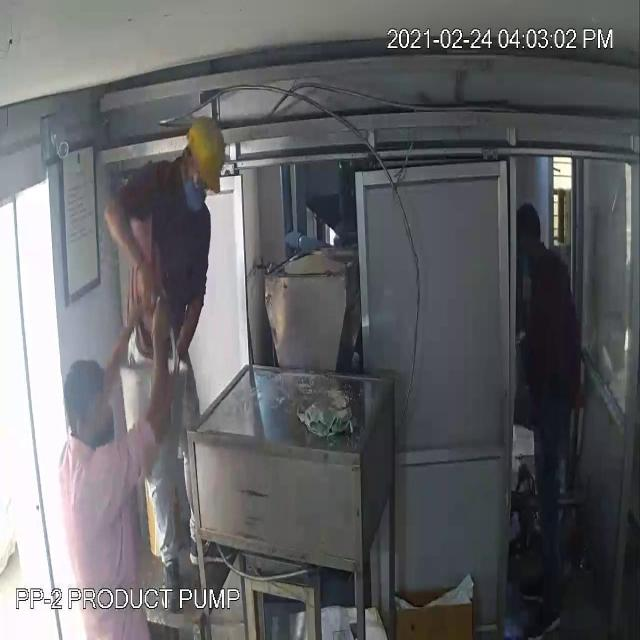helmet: (182, 110, 228, 206)
